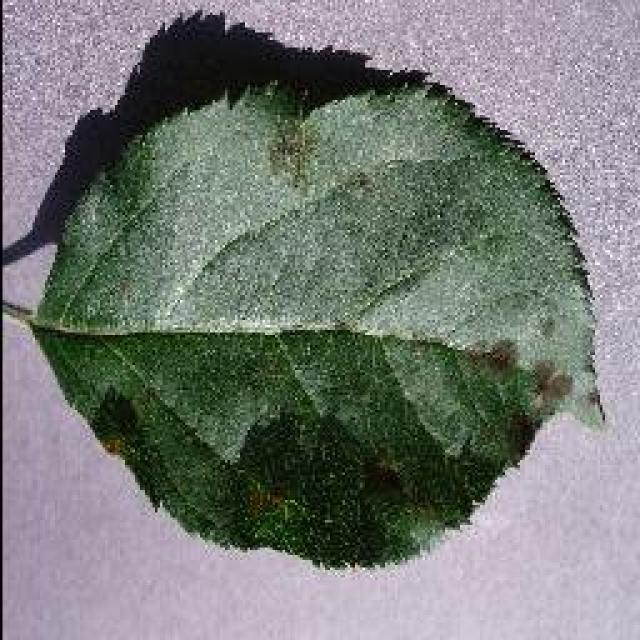apple scab disease: (5, 10, 607, 572)
